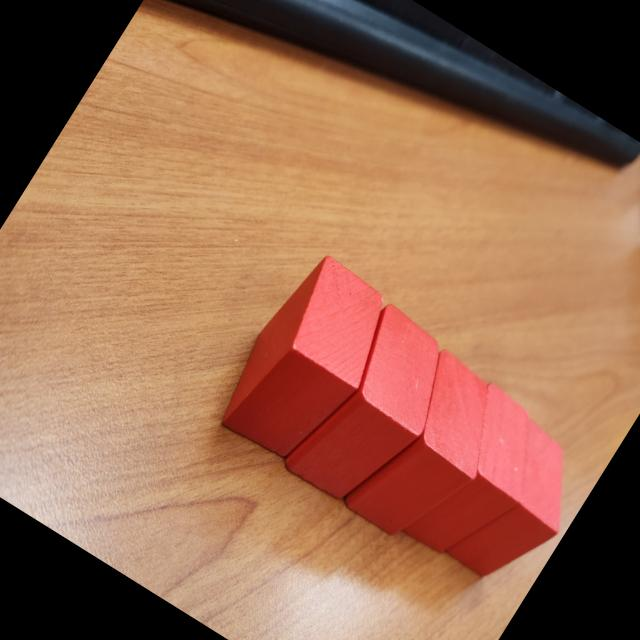red: (202, 240, 412, 478), (279, 298, 472, 522), (337, 343, 524, 558), (395, 380, 566, 578), (443, 418, 600, 598)
